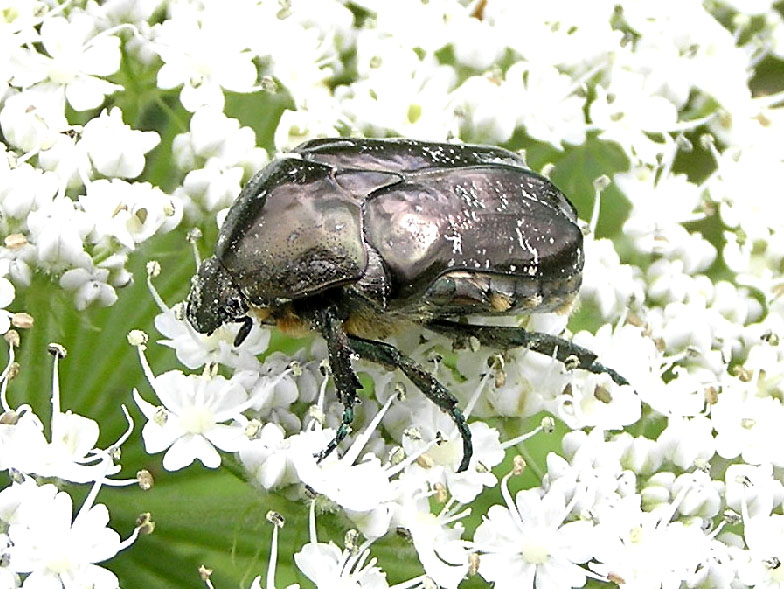Protaetia_lugubris: (183, 127, 637, 474)
